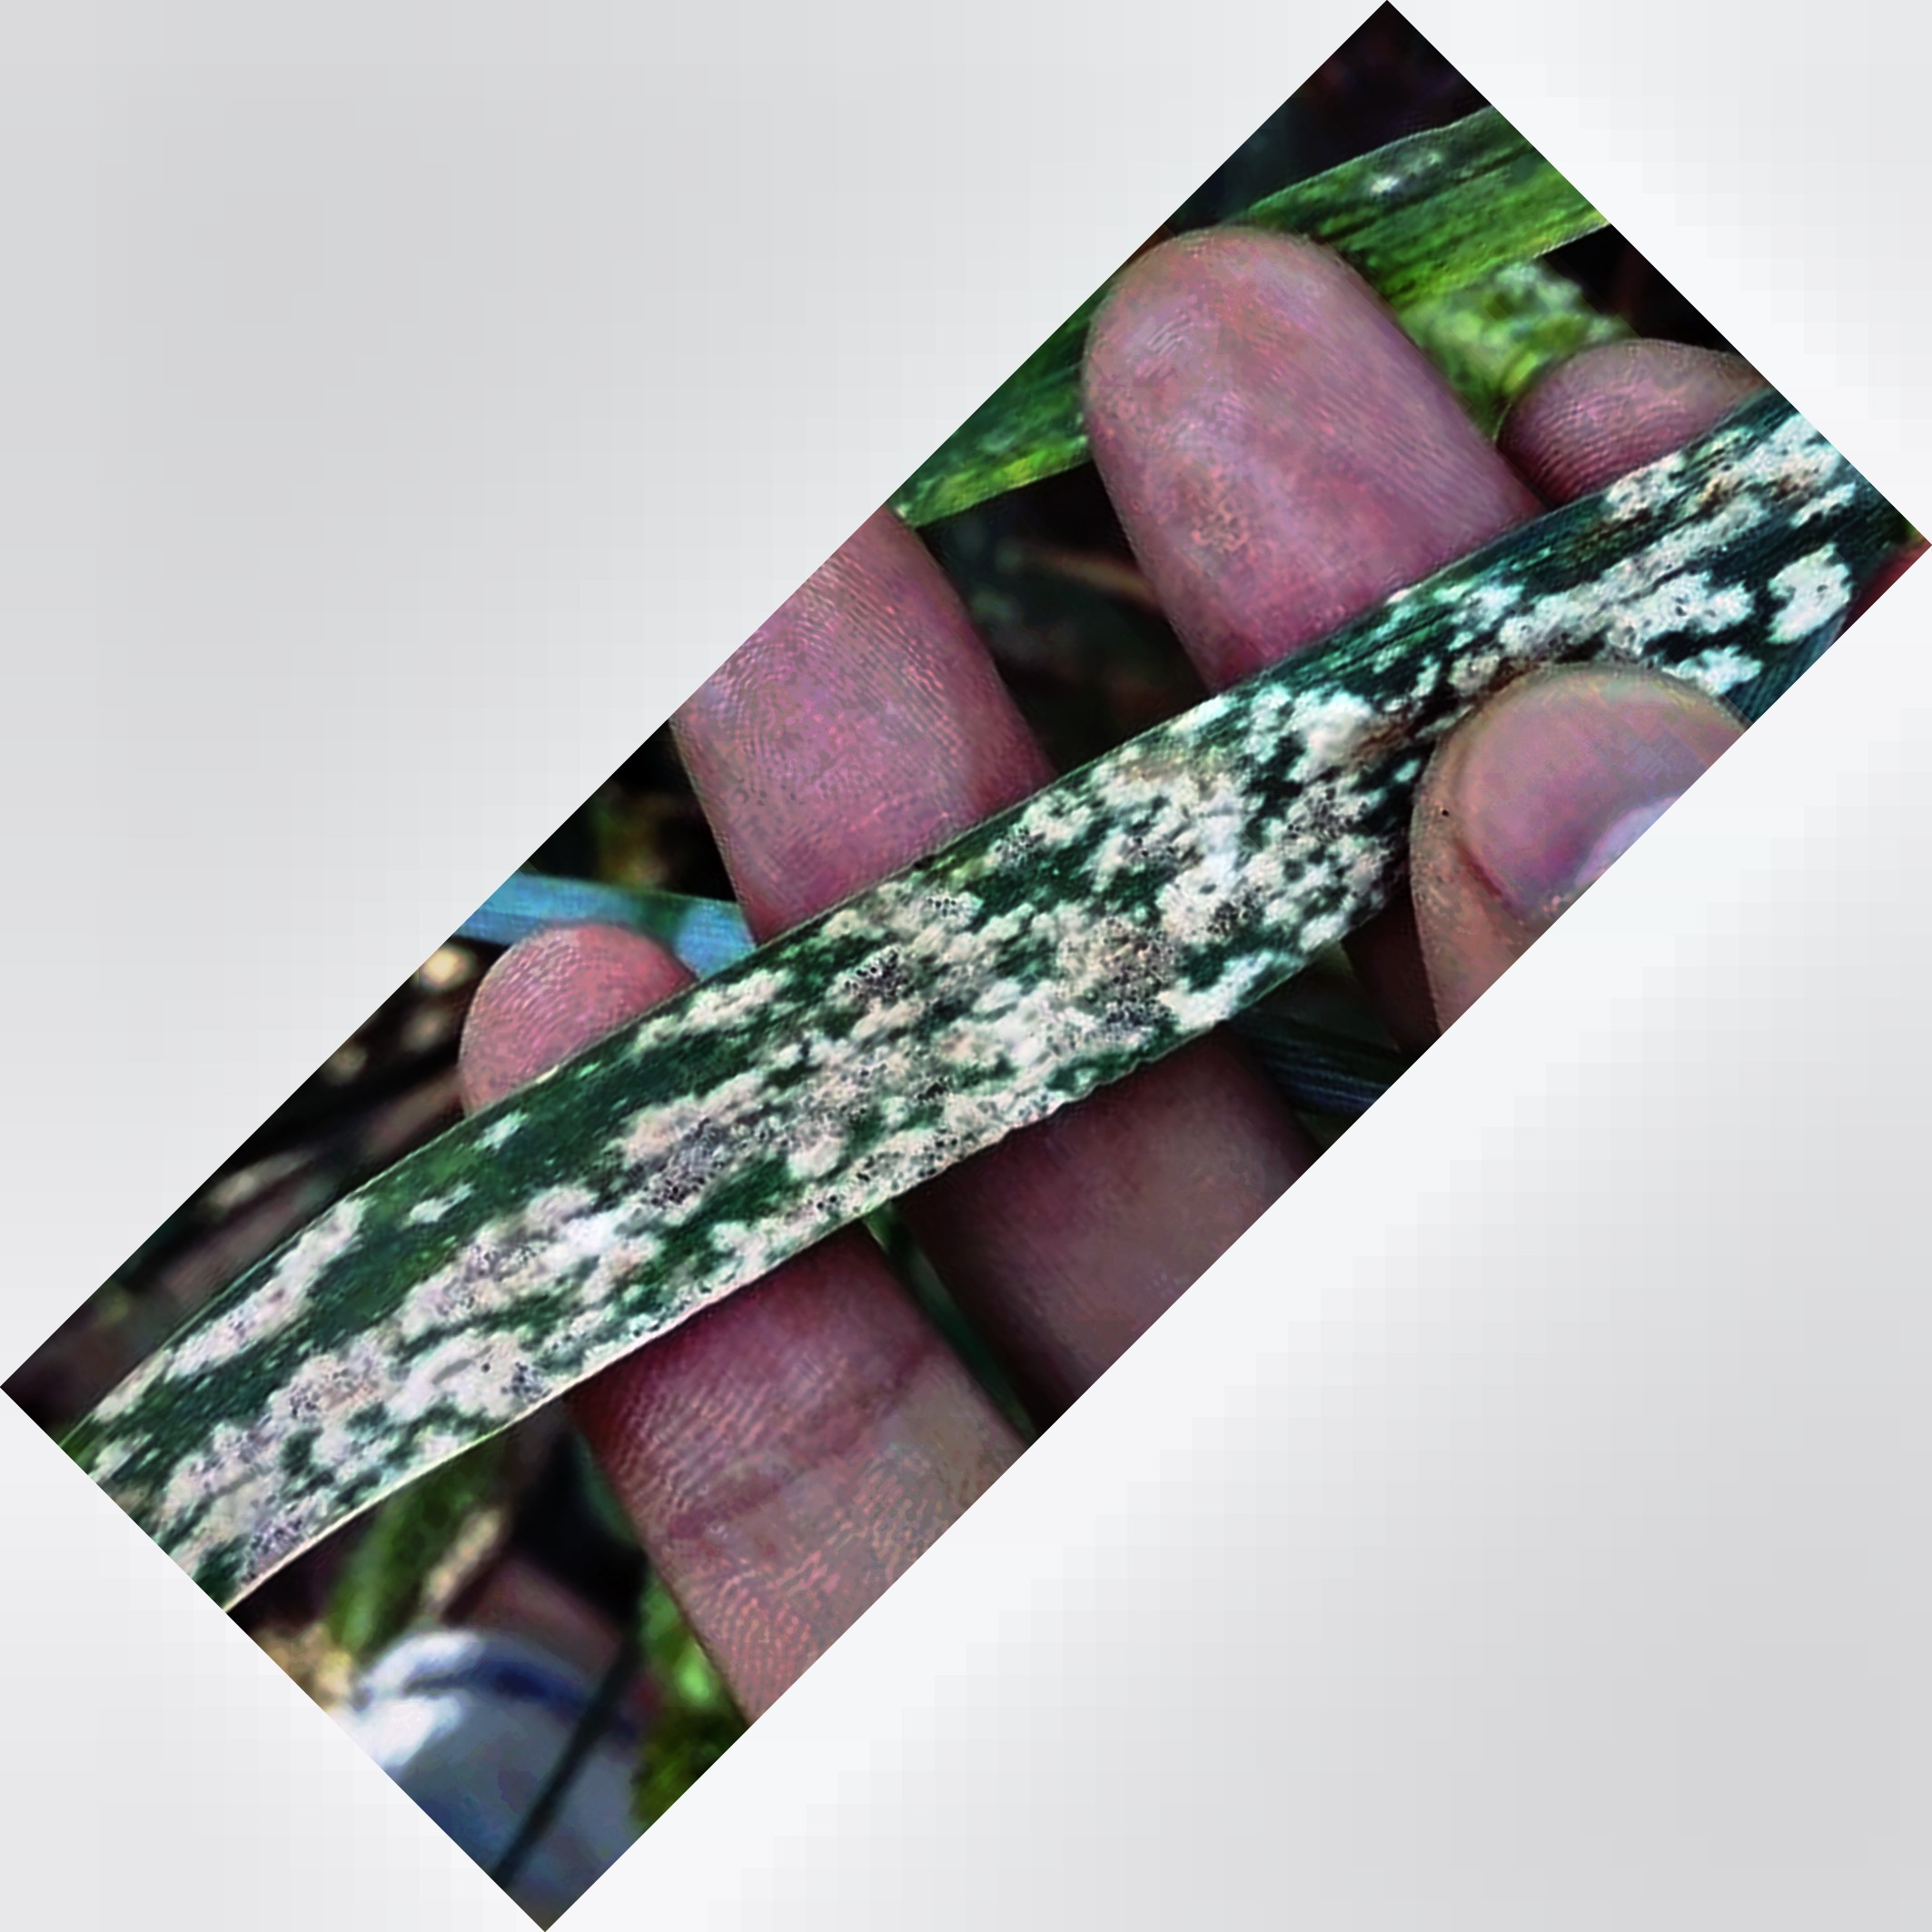Powdery Mildew: (156, 525, 1576, 1536)
